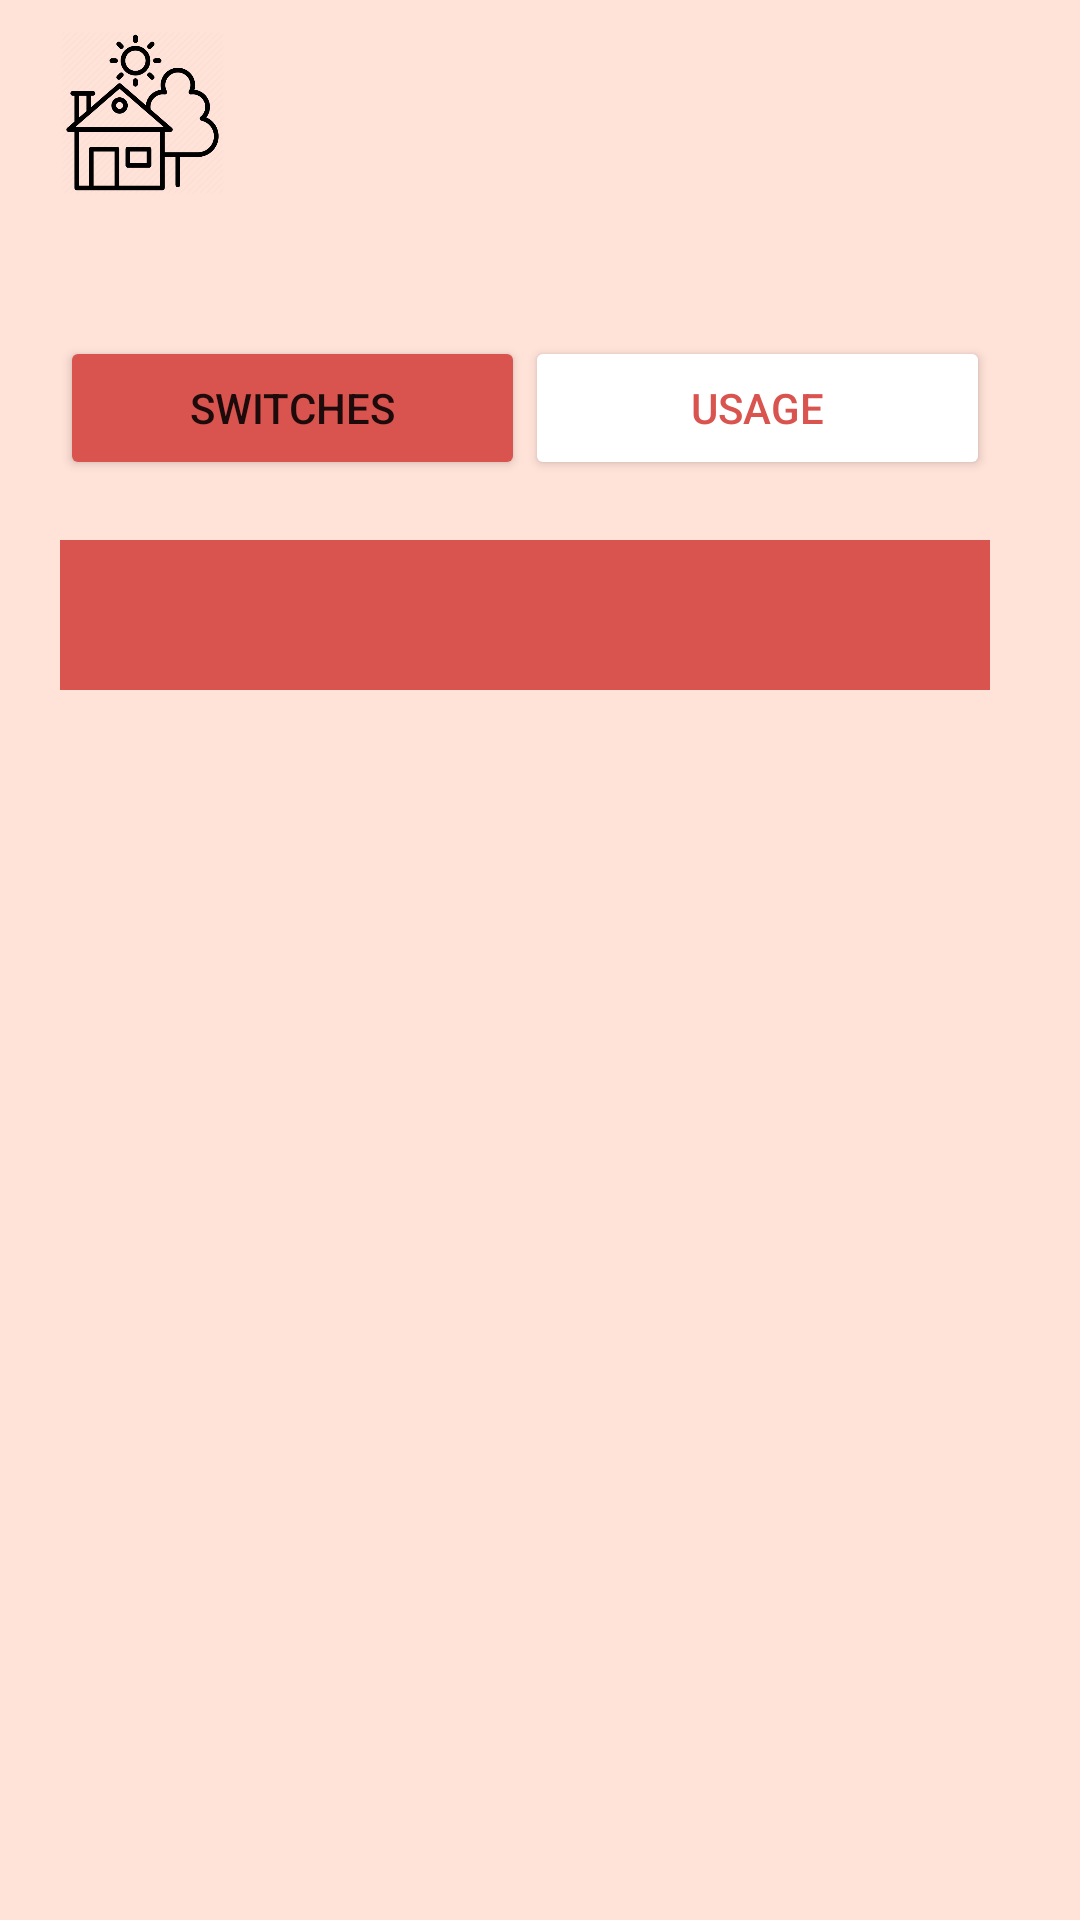

Icon bounding boxes for this 1080 × 1920 phone screenshot, format [x1, y1, x2, y2]:
house: [66, 34, 219, 191]
